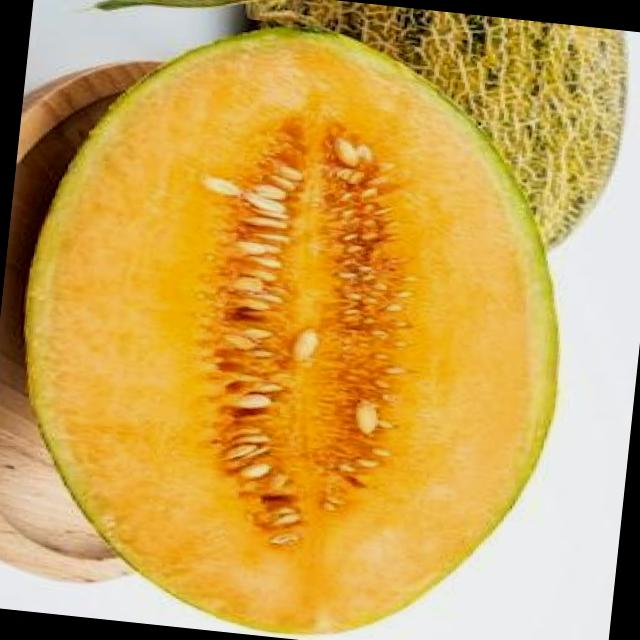cantaloupe: (0, 6, 593, 640)
